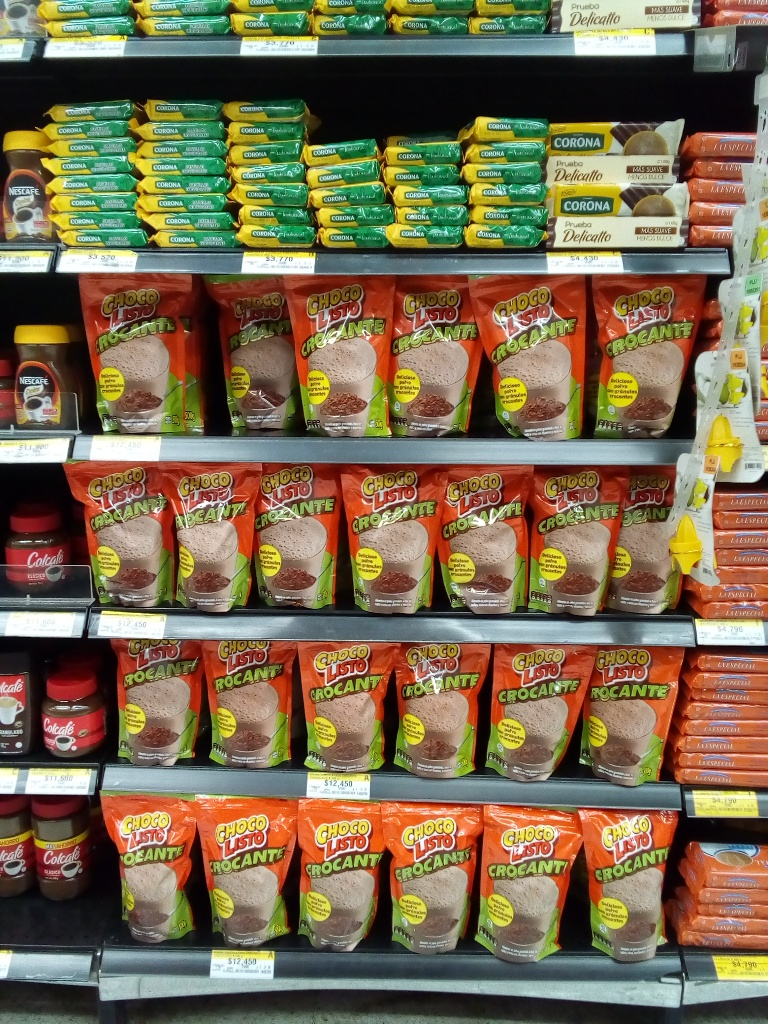COL0170102DYP50000: (77, 273, 200, 436)
